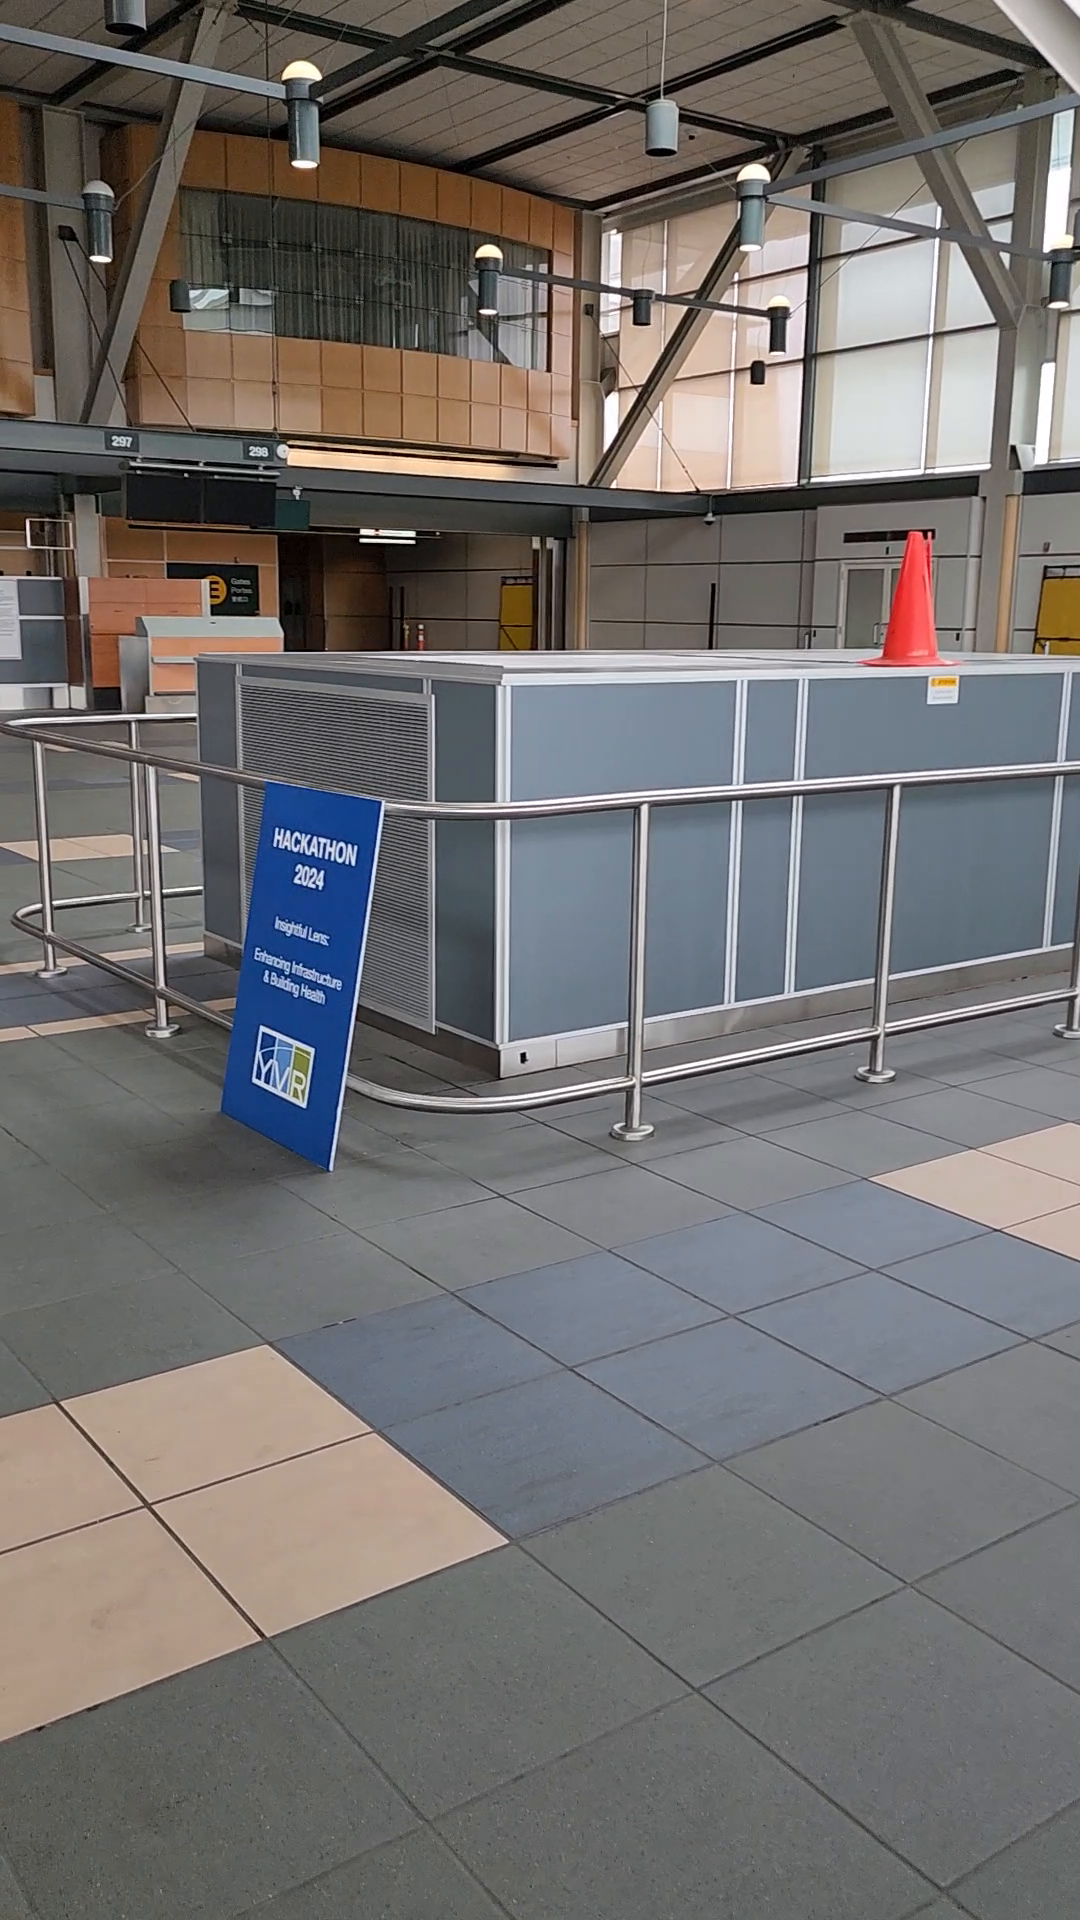Defect: (74, 158, 131, 206), (310, 1315, 365, 1340)
Stain: (71, 1520, 152, 1687), (468, 1455, 595, 1534), (691, 1367, 806, 1451), (384, 1117, 450, 1160), (131, 1342, 215, 1367)
